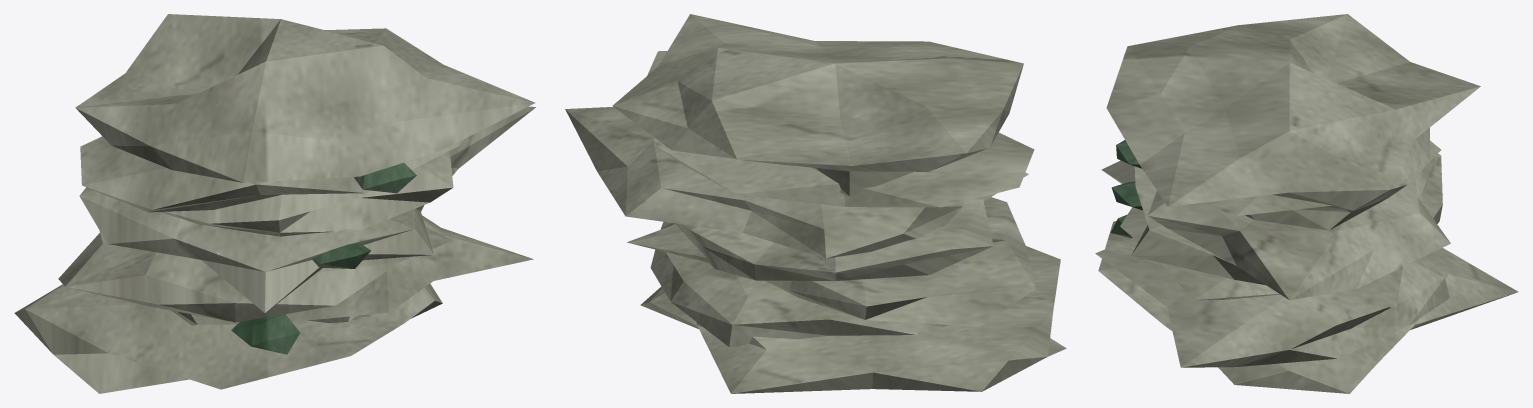
File: 0041_layered_rock_16.glb
3 views of the same model, side by side, from view 1: azimuth 30°, elevation 25°; view 2: azimuth 150°, elevation 25°; view 3: azimuth 270°, elevation 25° (orthographic). The views are drawn at different scales.
Visible parts, largest first — view 1: stone_light, moss; view 2: stone_light; view 3: stone_light, moss.
Boxes of the visible parts, <box> form: stone_light: <box>14,14,535,393</box>; moss: <box>231,162,416,354</box>; stone_light: <box>565,14,1066,393</box>; stone_light: <box>1095,14,1518,393</box>; moss: <box>1110,140,1142,238</box>.
Size of the model in its own units: 2.46 by 1.32 by 1.92.
Materials: 2 (2 with a texture image).
